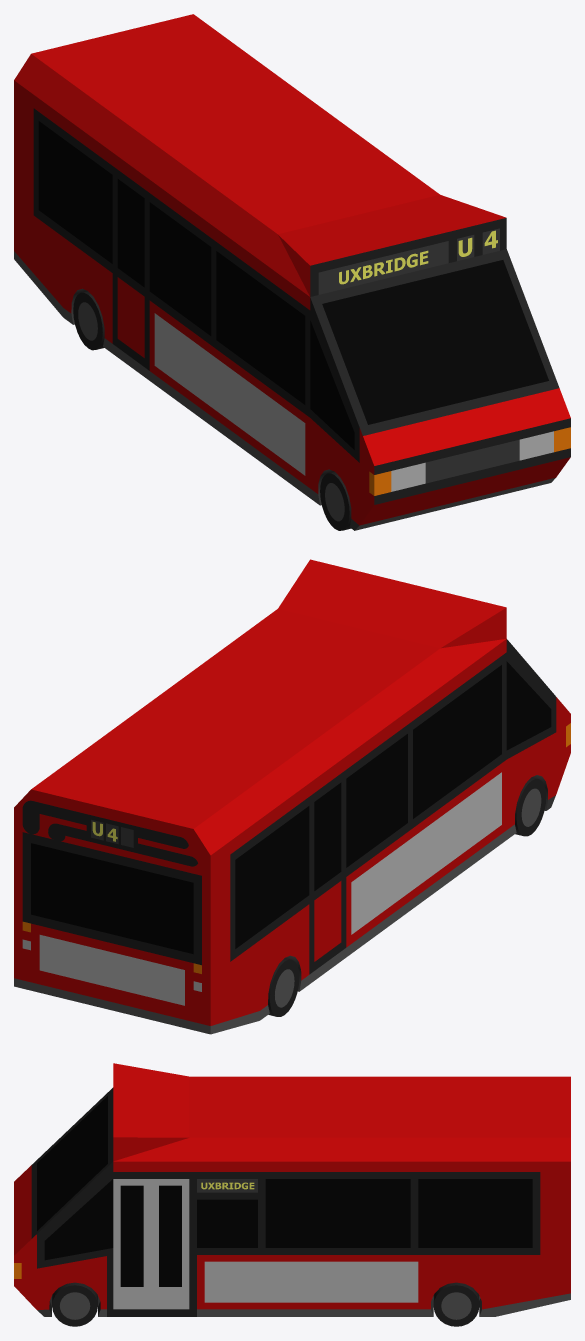
File: metrorider2.dae
3 renders of one model, top to bottom at view 1: azimuth 30°, elevation 25°; view 2: azimuth 150°, elevation 25°; view 3: azimuth 270°, elevation 25°, orthographic. The views are drawn at different scales.
Visible parts, largest first — view 1: SketchUp (×21); view 2: SketchUp (×17); view 3: SketchUp (×19).
Part boxes in pixels (x1,y1,x2,y2): SketchUp (×21): [14, 14, 570, 530]; SketchUp (×17): [14, 559, 570, 1034]; SketchUp (×19): [14, 1063, 570, 1326].
Size of the model in its own units: 90.57 by 287 by 108.
